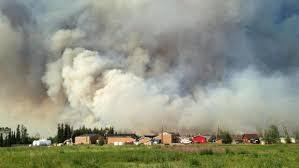yanwu: (0, 1, 299, 128)
